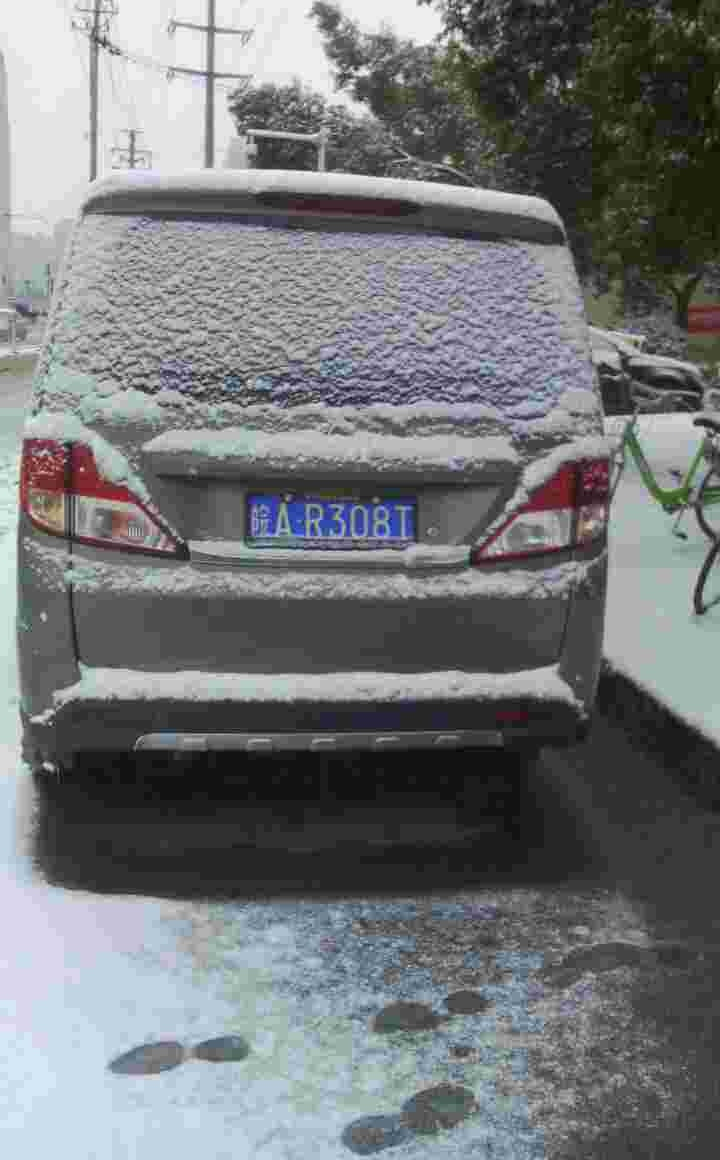plate: (231, 478, 435, 565)
